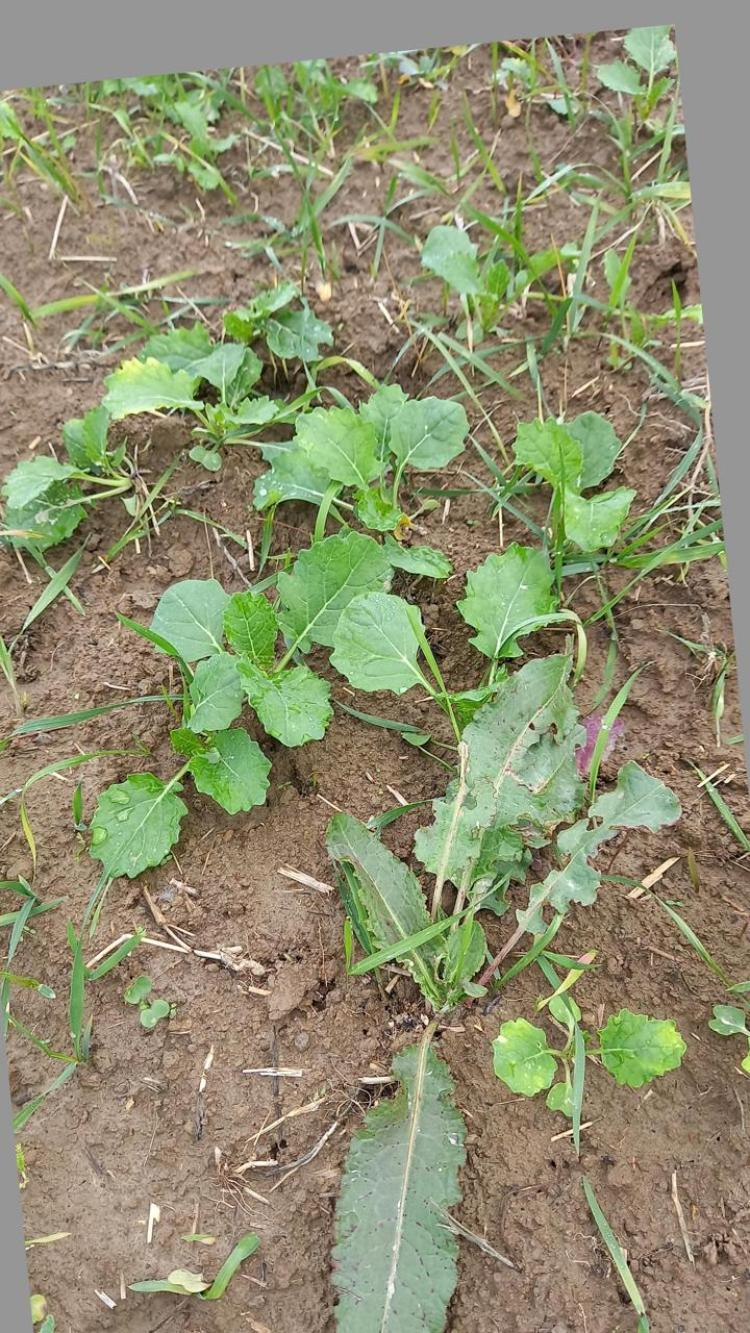zhavel: (286, 656, 690, 1333)
